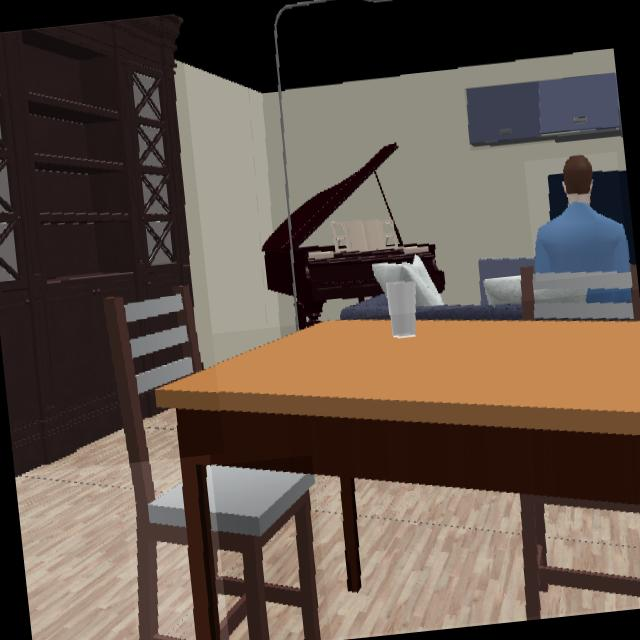bookshelf: (0, 17, 191, 475)
cabinet: (467, 72, 621, 147)
chair: (104, 287, 200, 640), (205, 466, 320, 640)
person: (535, 155, 629, 272)
table: (158, 321, 640, 640)
